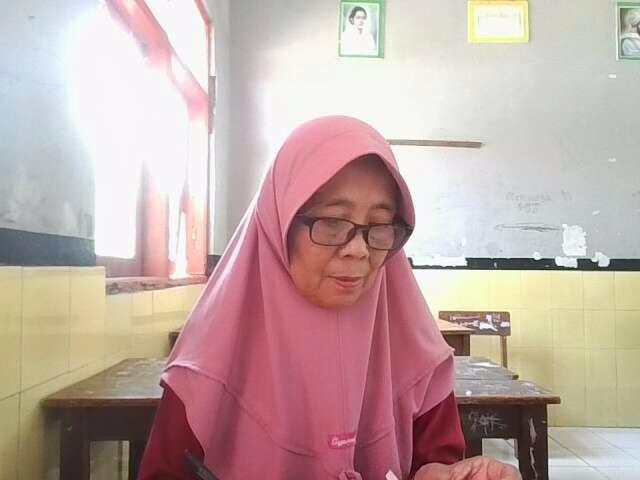good: (127, 101, 548, 480)
